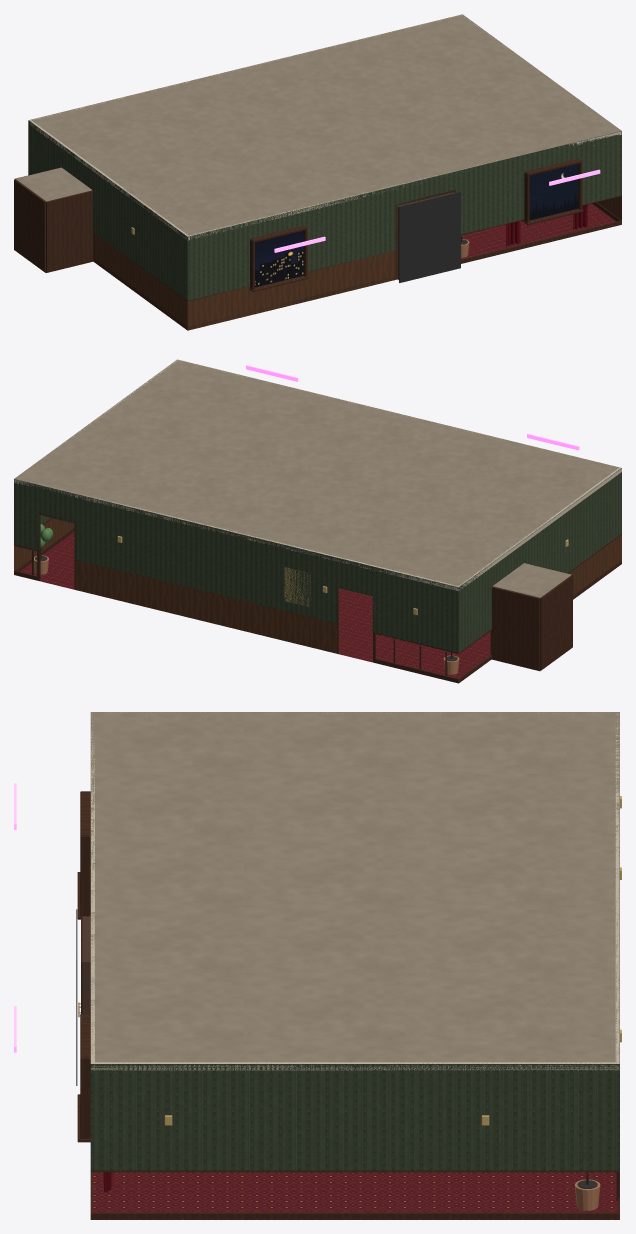
File: lobby.glb
3 renders of one model, top to bottom at view 1: azimuth 30°, elevation 25°; view 2: azimuth 150°, elevation 25°; view 3: azimuth 270°, elevation 25°, orthographic. The views are drawn at different scales.
Parts seen in each view (by area): view 1: Lobby; view 2: Lobby; view 3: Lobby.
Boxes of the visible parts, x1,y1,x2,y2 form: Lobby: [14, 14, 621, 330]; Lobby: [14, 359, 621, 683]; Lobby: [14, 712, 621, 1219].
Bounding box in the file's own units: 17.24 × 3.24 × 11.32.
Materials: 107 (86 with a texture image).
